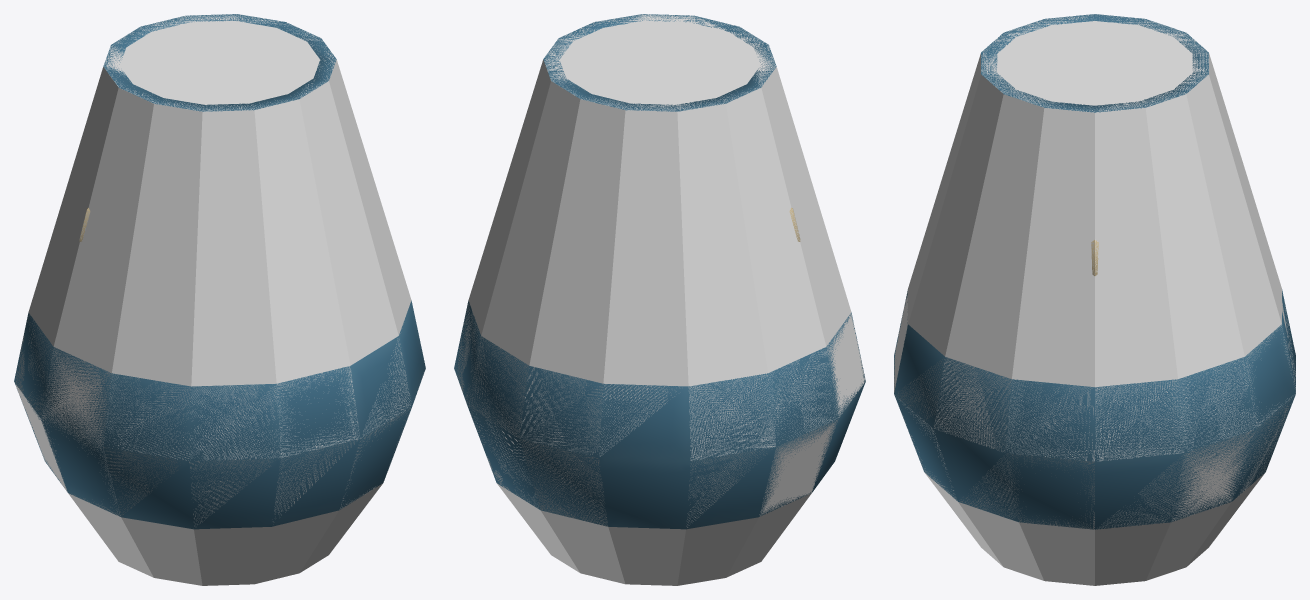
The model's file is ceramic_vase.glb.
The picture shows the model from 3 angles, left to right: view 1: azimuth 30°, elevation 25°; view 2: azimuth 150°, elevation 25°; view 3: azimuth 270°, elevation 25°; orthographic projection.
Visible parts, largest first — view 1: COL_ceramic_vase_00, body; view 2: COL_ceramic_vase_00, body; view 3: COL_ceramic_vase_00, body.
Part boxes in pixels (x1,y1,x2,y2): COL_ceramic_vase_00: (14,14,424,585); body: (14,14,425,529); COL_ceramic_vase_00: (457,14,865,585); body: (454,14,865,529); COL_ceramic_vase_00: (894,14,1295,585); body: (894,14,1295,529).
Size of the model in its own units: 0.3 by 0.38 by 0.2925.
2 materials, 2 textured.
